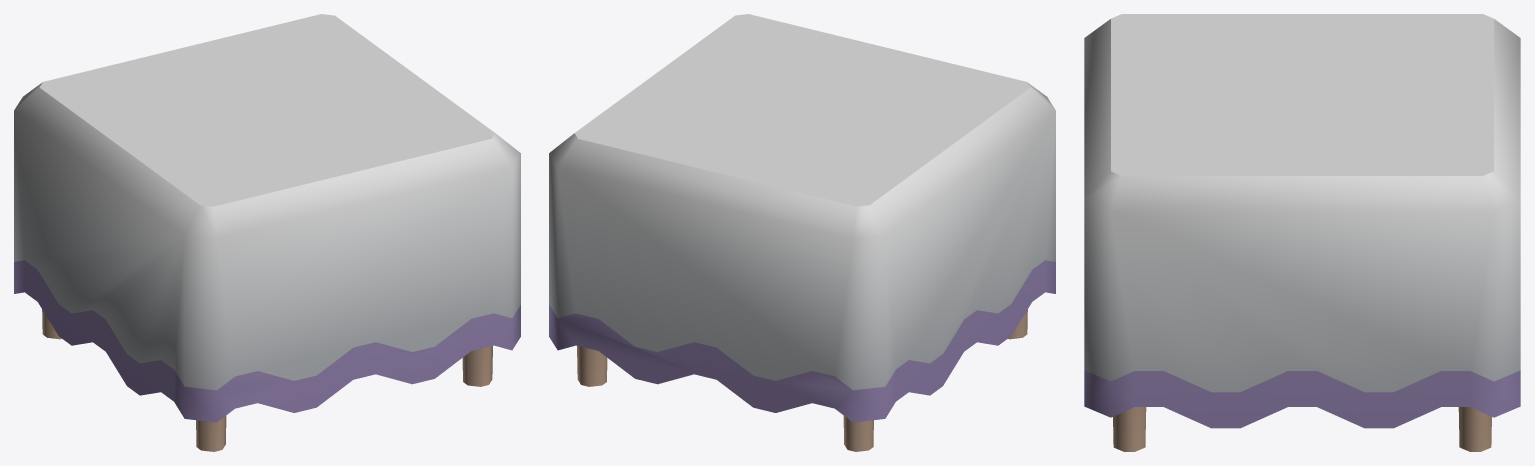
Rendered from table-classic-wood-square-cloth-long.glb.
3 views of the same model, side by side, from view 1: azimuth 30°, elevation 25°; view 2: azimuth 150°, elevation 25°; view 3: azimuth 270°, elevation 25° (orthographic). The views are drawn at different scales.
Parts seen in each view (by area): view 1: table-classic-wood-square-cloth-long; view 2: table-classic-wood-square-cloth-long; view 3: table-classic-wood-square-cloth-long.
Boxes of the visible parts, bbox=[...] form: table-classic-wood-square-cloth-long: bbox=[14, 14, 520, 451]; table-classic-wood-square-cloth-long: bbox=[549, 14, 1055, 451]; table-classic-wood-square-cloth-long: bbox=[1084, 14, 1520, 451].
Size of the model in its own units: 0.82 by 0.5746 by 0.82.
